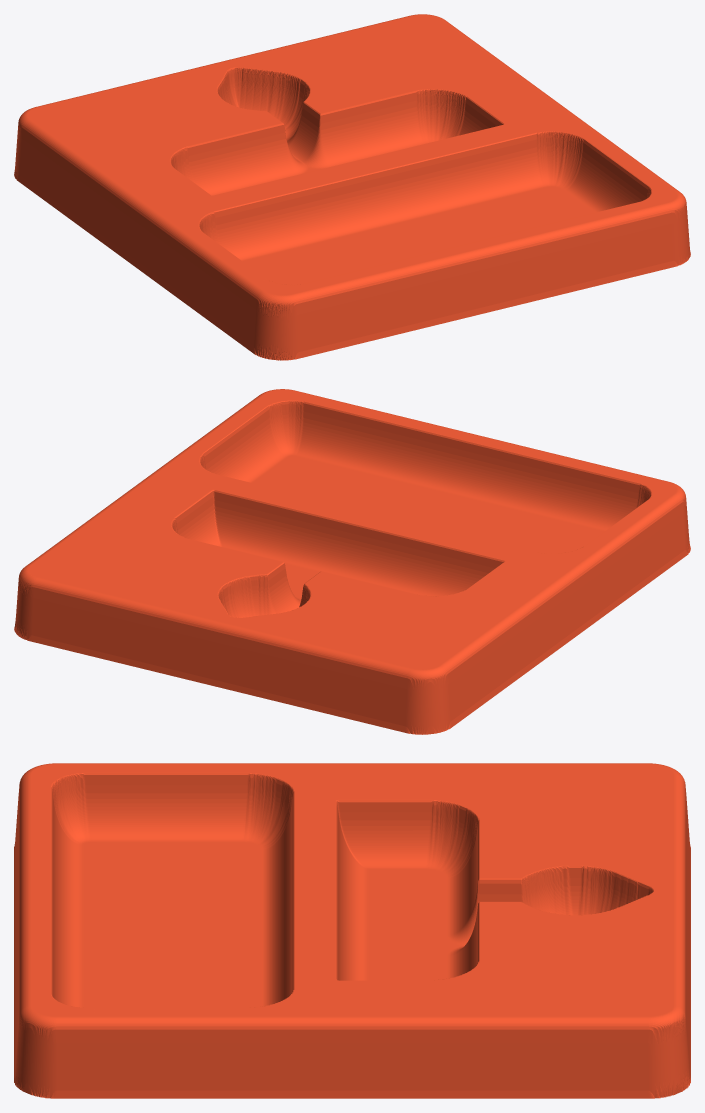
File: mold.glb
The picture shows the model from 3 angles, top to bottom: view 1: azimuth 30°, elevation 25°; view 2: azimuth 150°, elevation 25°; view 3: azimuth 270°, elevation 25°; orthographic projection. The views are drawn at different scales.
Visible parts, largest first — view 1: geometry_0; view 2: geometry_0; view 3: geometry_0.
Boxes of the visible parts, left/top/right/bottom form: geometry_0: left=14, top=14, right=690, bottom=360; geometry_0: left=14, top=389, right=690, bottom=734; geometry_0: left=14, top=763, right=690, bottom=1098.
Bounding box in the file's own units: 0.1337 × 0.0175 × 0.1435.
